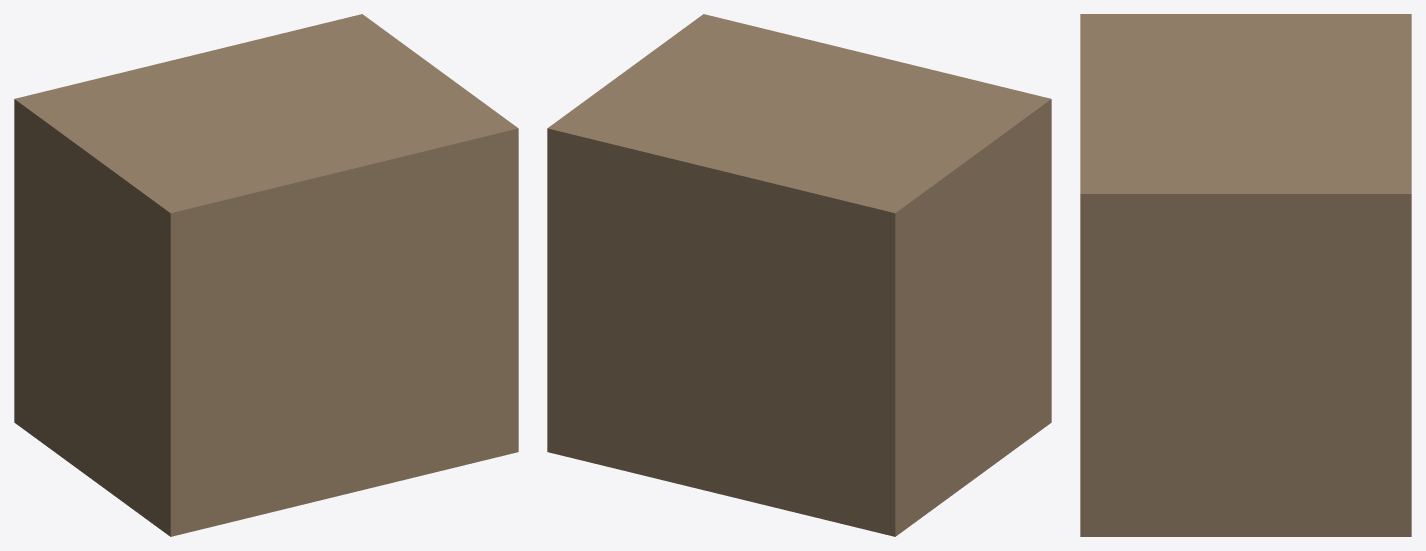
3 renders of one model, left to right at view 1: azimuth 30°, elevation 25°; view 2: azimuth 150°, elevation 25°; view 3: azimuth 270°, elevation 25°, orthographic. The views are drawn at different scales.
Bounding box in the file's own units: 0.9 × 0.8 × 0.7.
